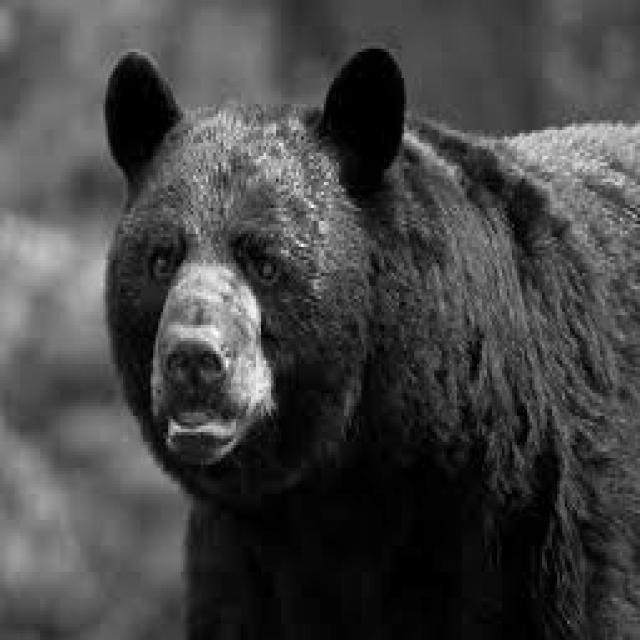Bear: (89, 57, 640, 621)
